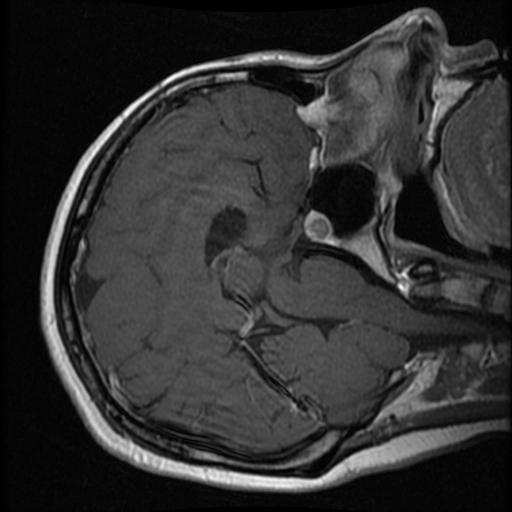pituitary tumour: (305, 211, 336, 244)
